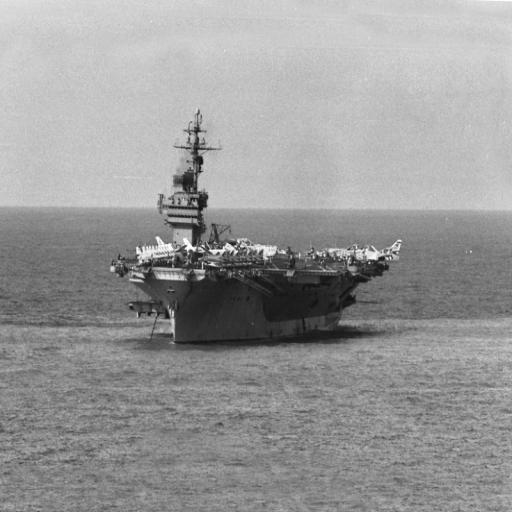Portanaves: (111, 112, 408, 354)
